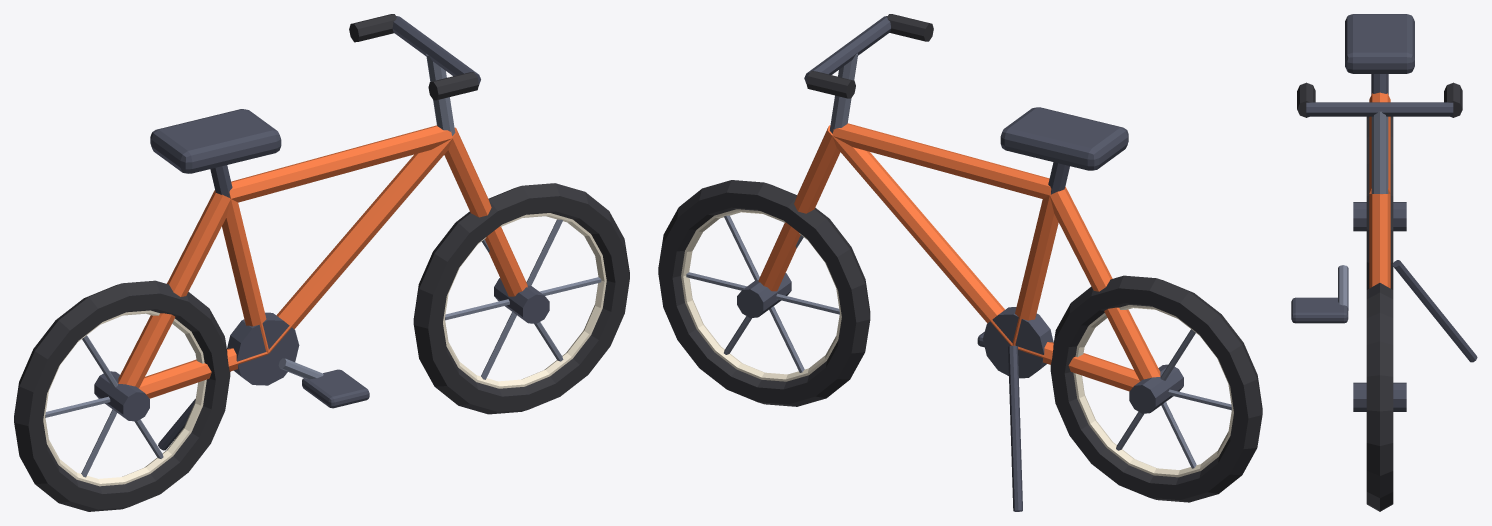
The model's file is bicycle.glb.
The picture shows the model from 3 angles, left to right: view 1: azimuth 30°, elevation 25°; view 2: azimuth 150°, elevation 25°; view 3: azimuth 270°, elevation 25°; orthographic projection. The views are drawn at different scales.
Parts seen in each view (by area): view 1: bicycle__Tire, bicycle__Tire.001, bicycle__Saddle, bicycle__Frame tube.004, bicycle__Frame tube.003, bicycle__Frame tube.002, bicycle__Crank, bicycle__Frame tube.005, bicycle__Rim.001, bicycle__Frame tube.001, bicycle__Rim, bicycle__Frame tube (+7 smaller); view 2: bicycle__Tire, bicycle__Tire.001, bicycle__Saddle, bicycle__Frame tube.004, bicycle__Frame tube.003, bicycle__Frame tube.002, bicycle__Frame tube.005, bicycle__Crank, bicycle__Rim.001, bicycle__Frame tube.001, bicycle__Rim, bicycle__Frame tube (+7 smaller); view 3: bicycle__Tire.001, bicycle__Saddle, bicycle__Handlebar, bicycle__Frame tube.005, bicycle__Pedal, bicycle__Stem, bicycle__Tire, bicycle__Kickstand, bicycle__Hub, bicycle__Hub.001, bicycle__Frame tube.003, bicycle__Grip (+3 smaller).
Part boxes in pixels (x1=…): bicycle__Tire: x1=14, y1=280, x2=230, y2=511; bicycle__Tire.001: x1=413, y1=183, x2=629, y2=414; bicycle__Saddle: x1=150, y1=109, x2=281, y2=173; bicycle__Frame tube.004: x1=268, y1=138, x2=452, y2=353; bicycle__Frame tube.003: x1=229, y1=125, x2=452, y2=202; bicycle__Frame tube.002: x1=118, y1=190, x2=230, y2=388; bicycle__Crank: x1=227, y1=312, x2=299, y2=385; bicycle__Frame tube.005: x1=444, y1=127, x2=527, y2=296; bicycle__Rim.001: x1=443, y1=213, x2=606, y2=388; bicycle__Frame tube.001: x1=222, y1=199, x2=268, y2=352; bicycle__Rim: x1=43, y1=310, x2=206, y2=486; bicycle__Frame tube: x1=139, y1=348, x2=268, y2=398; bicycle__Tire: x1=1050, y1=275, x2=1262, y2=502; bicycle__Tire.001: x1=658, y1=180, x2=870, y2=406; bicycle__Saddle: x1=1000, y1=107, x2=1128, y2=170; bicycle__Frame tube.004: x1=832, y1=136, x2=1012, y2=345; bicycle__Frame tube.003: x1=832, y1=123, x2=1051, y2=198; bicycle__Frame tube.002: x1=1050, y1=186, x2=1160, y2=380; bicycle__Frame tube.005: x1=758, y1=125, x2=840, y2=291; bicycle__Crank: x1=983, y1=307, x2=1053, y2=378; bicycle__Rim.001: x1=681, y1=209, x2=841, y2=381; bicycle__Frame tube.001: x1=1012, y1=195, x2=1058, y2=345; bicycle__Rim: x1=1073, y1=305, x2=1233, y2=477; bicycle__Frame tube: x1=1015, y1=342, x2=1140, y2=391; bicycle__Tire.001: x1=1366, y1=283, x2=1393, y2=511; bicycle__Saddle: x1=1345, y1=14, x2=1414, y2=73; bicycle__Handlebar: x1=1306, y1=102, x2=1453, y2=116; bicycle__Frame tube.005: x1=1369, y1=194, x2=1390, y2=288; bicycle__Pedal: x1=1291, y1=297, x2=1348, y2=323; bicycle__Stem: x1=1371, y1=111, x2=1388, y2=193; bicycle__Tire: x1=1366, y1=116, x2=1393, y2=289; bicycle__Kickstand: x1=1392, y1=260, x2=1477, y2=362; bicycle__Hub: x1=1353, y1=202, x2=1406, y2=231; bicycle__Hub.001: x1=1353, y1=382, x2=1406, y2=411; bicycle__Frame tube.003: x1=1369, y1=92, x2=1390, y2=193; bicycle__Grip: x1=1297, y1=82, x2=1315, y2=117.
Size of the model in its own units: 0.3944 by 0.2388 by 0.1114.
